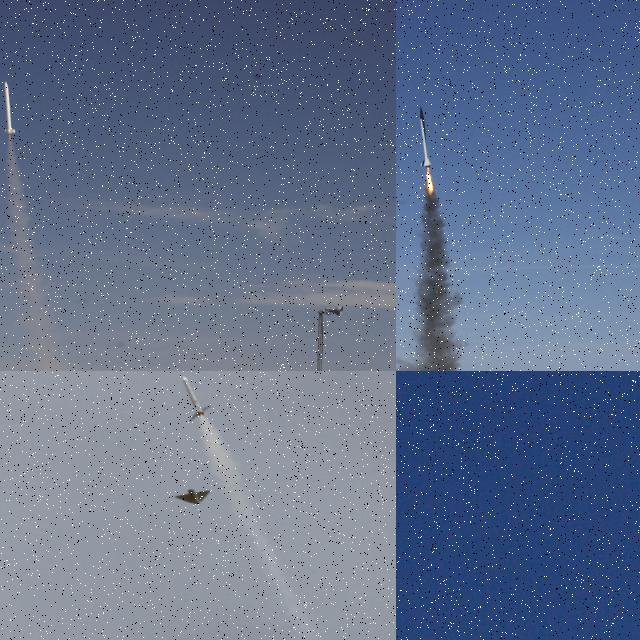Rocket: (181, 376, 214, 422), (419, 106, 432, 168), (3, 81, 16, 135)
